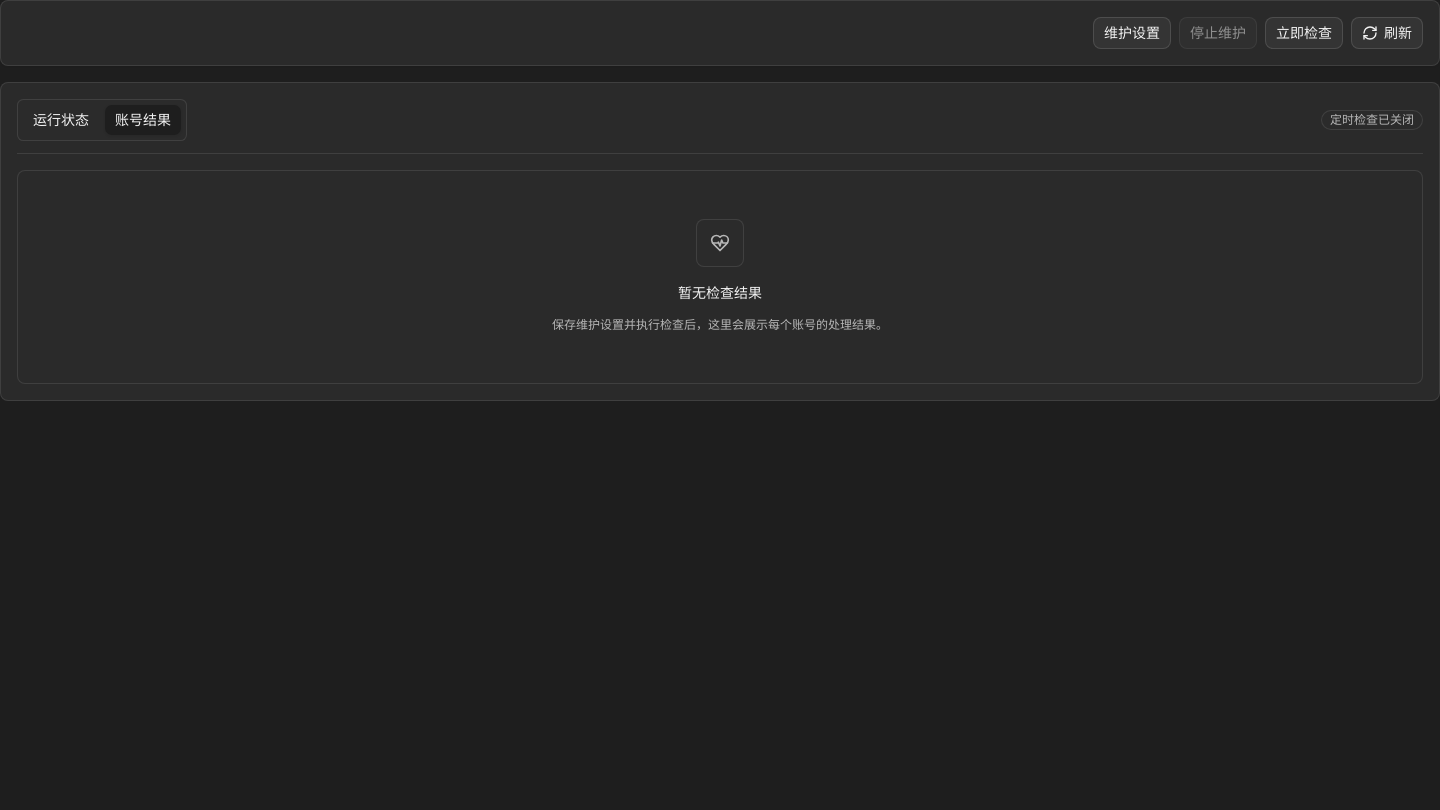
Test case: 读取维护范围期间可以取消，迟到响应不会重新打开确认弹窗
The image size is (1440, 810).
Click the button "维护设置": (1132, 33) x1=1093 y1=17 x2=1171 y2=49
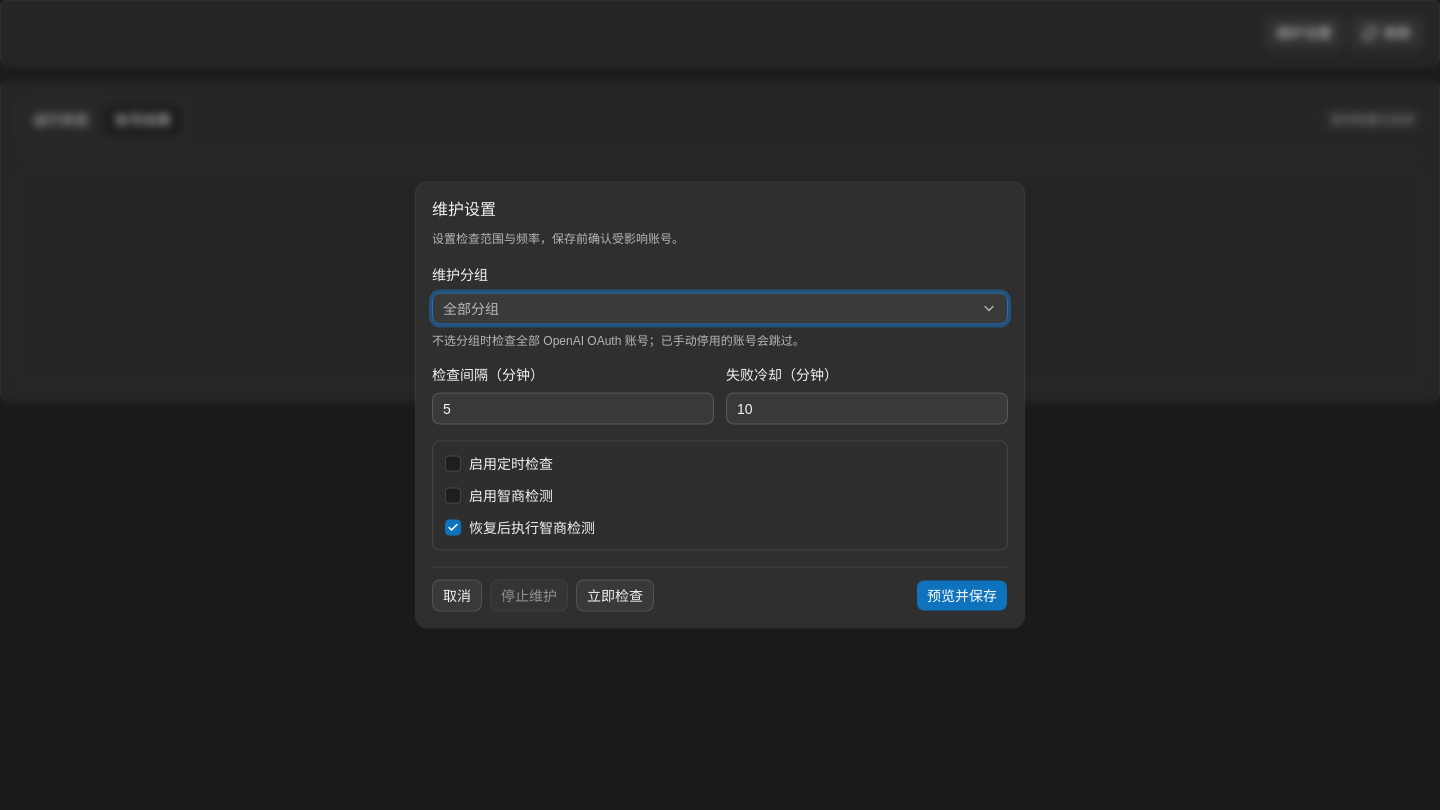
Click the button "预览并保存": (962, 596) x1=916 y1=580 x2=1008 y2=612
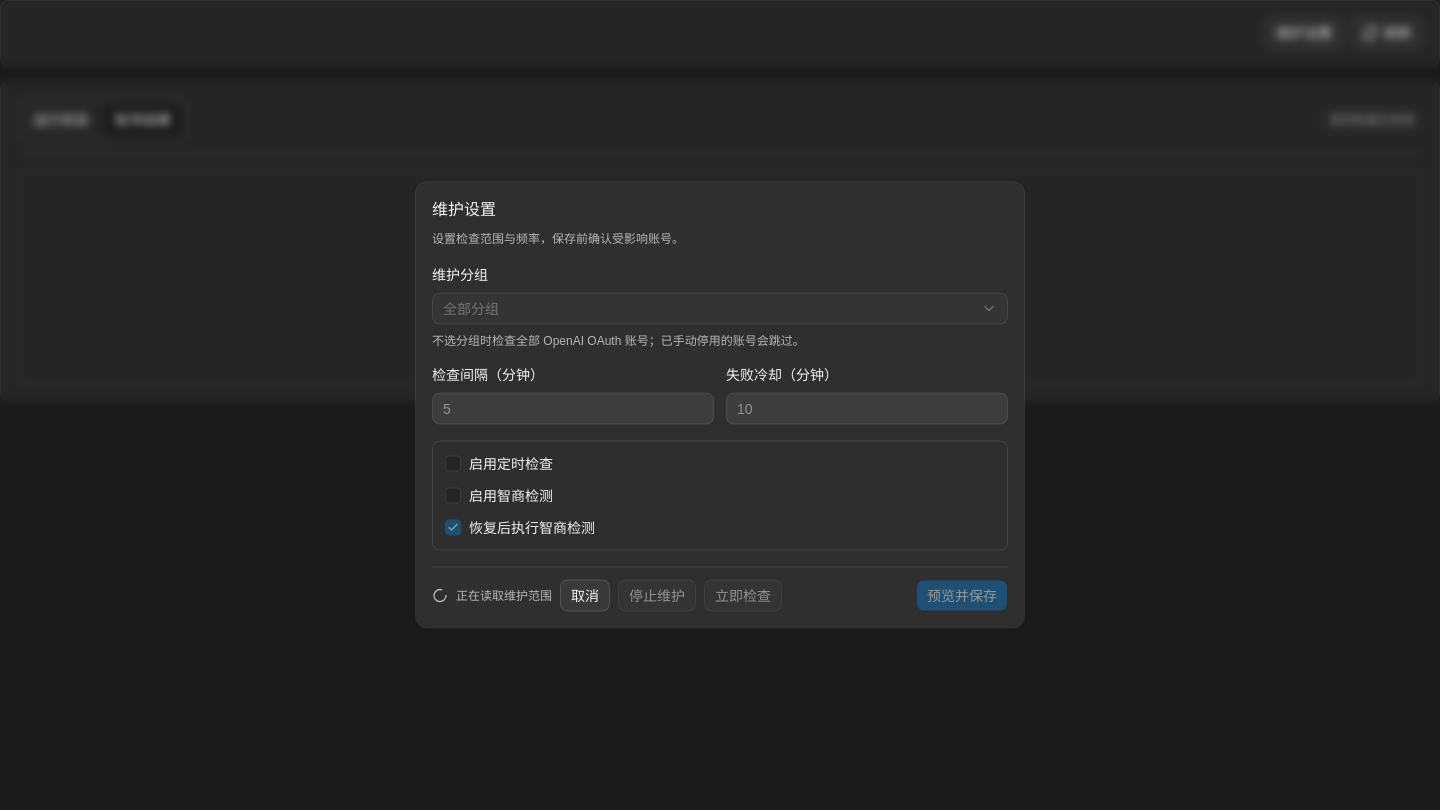
Now the message "正在读取维护范围" is shown, box x1=432 y1=588 x2=552 y2=604
Click the button "取消": (585, 596) x1=560 y1=580 x2=610 y2=612
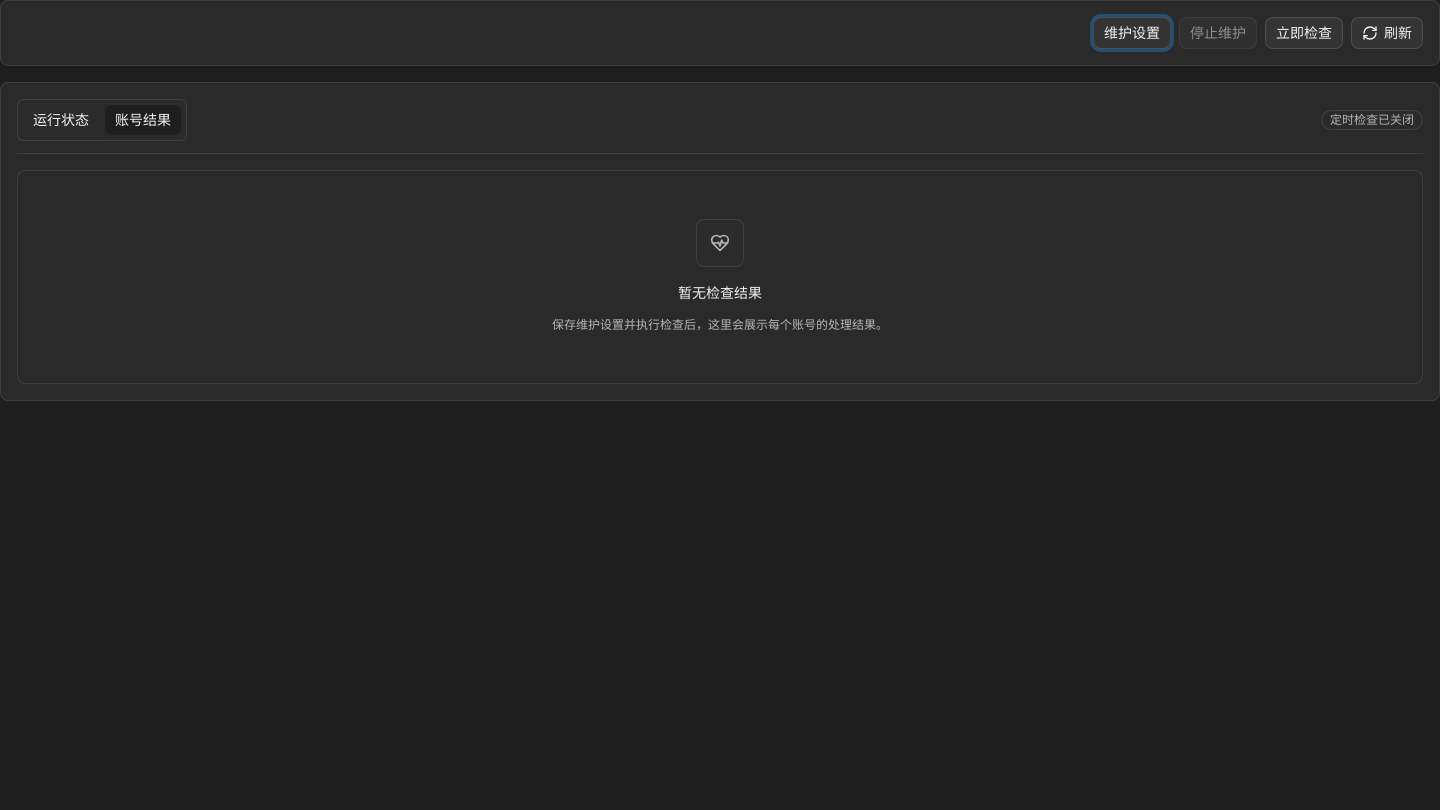
Now the dialog is gone
Click the tab "运行状态": (61, 120) x1=22 y1=104 x2=100 y2=136
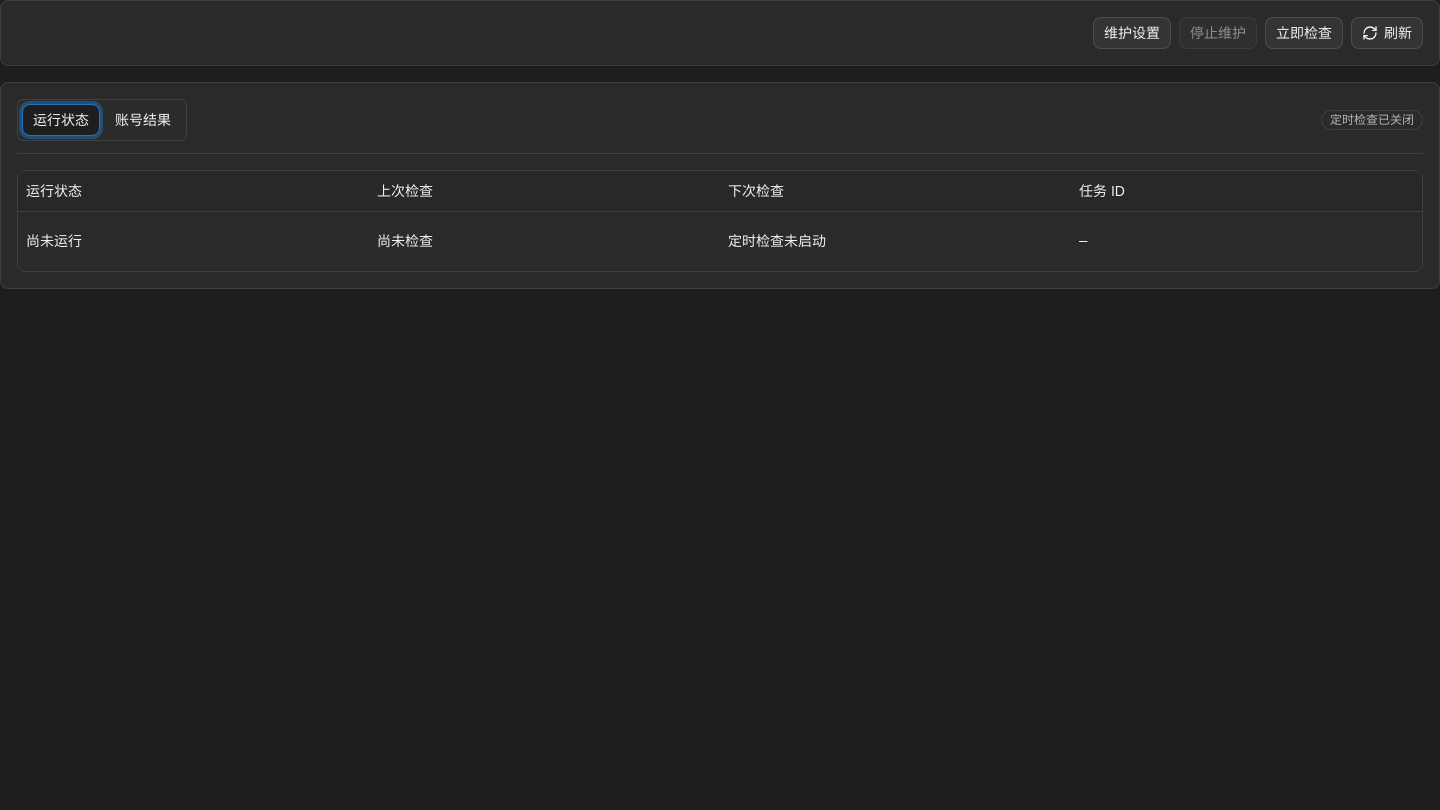
Now the table named "维护运行状态" is shown, box x1=18 y1=171 x2=1422 y2=271
